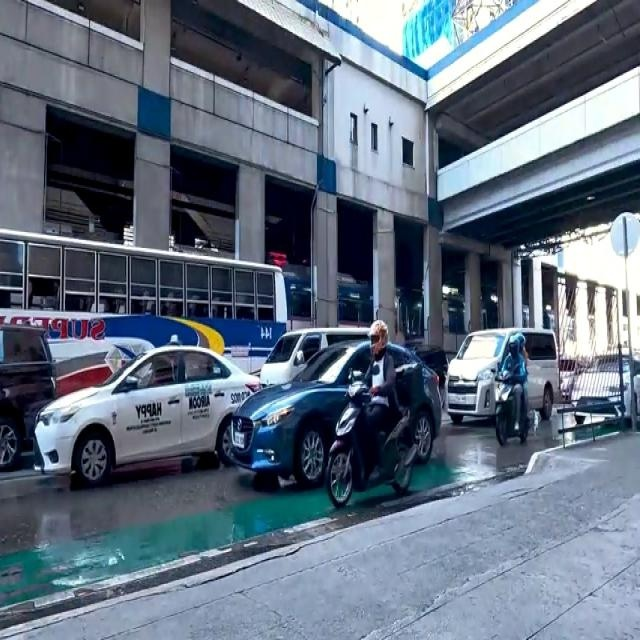bus: (0, 242, 286, 422)
car: (28, 346, 234, 489), (233, 342, 442, 478), (441, 326, 558, 428), (568, 346, 640, 444)
motorcycle: (337, 314, 420, 500), (493, 336, 538, 446)
